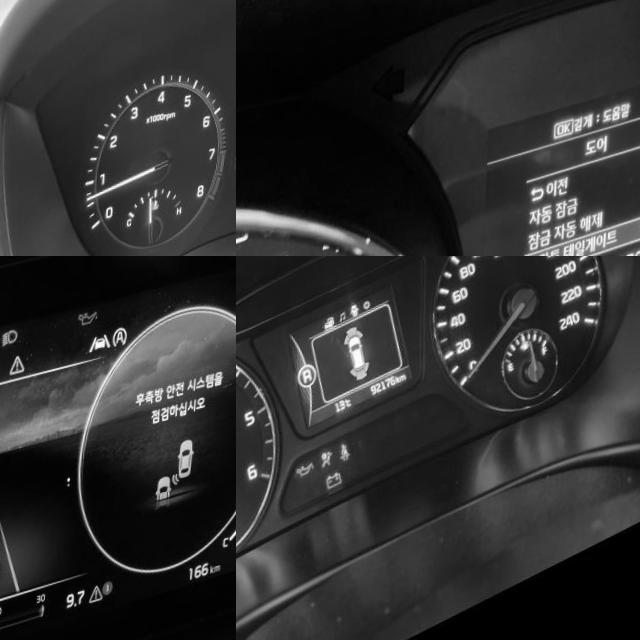Central Warning lamp: (11, 365, 27, 387), (93, 600, 108, 620)
LaneCenteringOff: (90, 348, 113, 369)
Low beam: (3, 339, 19, 359)
